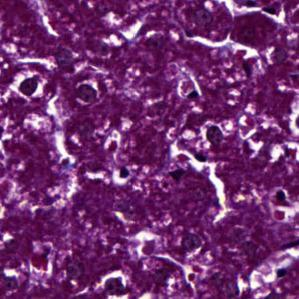inflammation: (12, 67, 49, 102), (9, 68, 48, 99), (98, 268, 133, 299), (95, 272, 134, 299), (267, 188, 297, 218), (200, 122, 231, 148)
